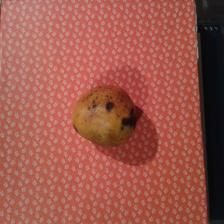Mango Semirotten: (64, 81, 145, 148)
